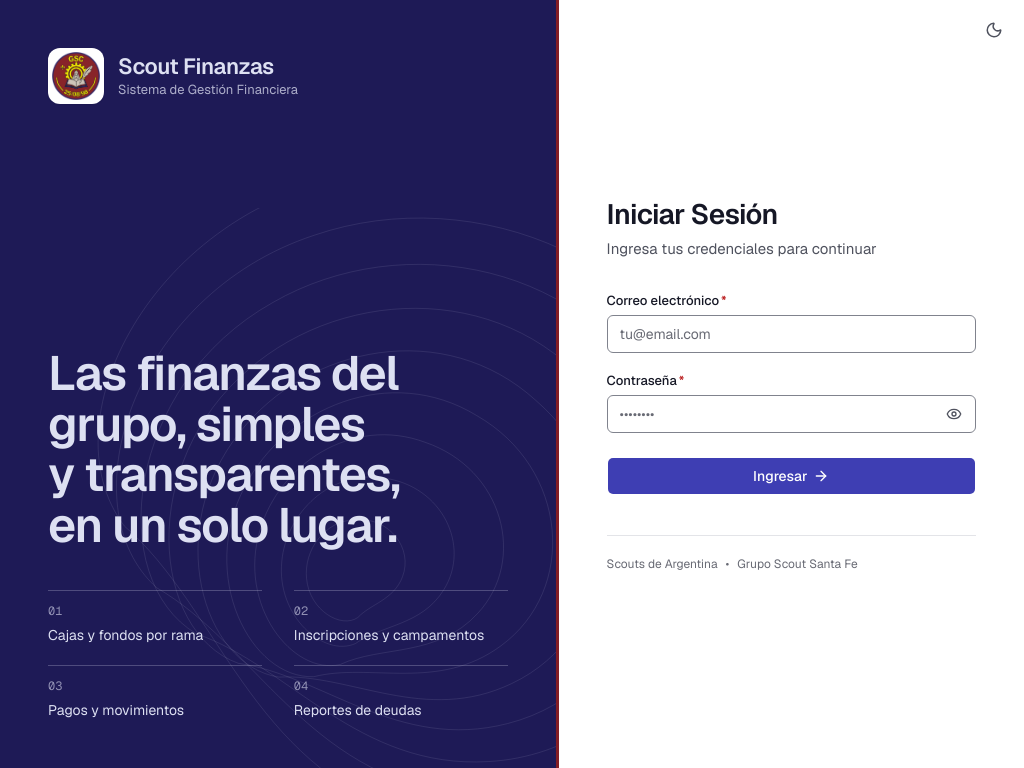
Test: LoginView › valida antes de enviar
What coordinates should you click on to do the following:
click the button "Ingresar"
I would click on:
 (791, 476)
Its box is [606,457,976,495].
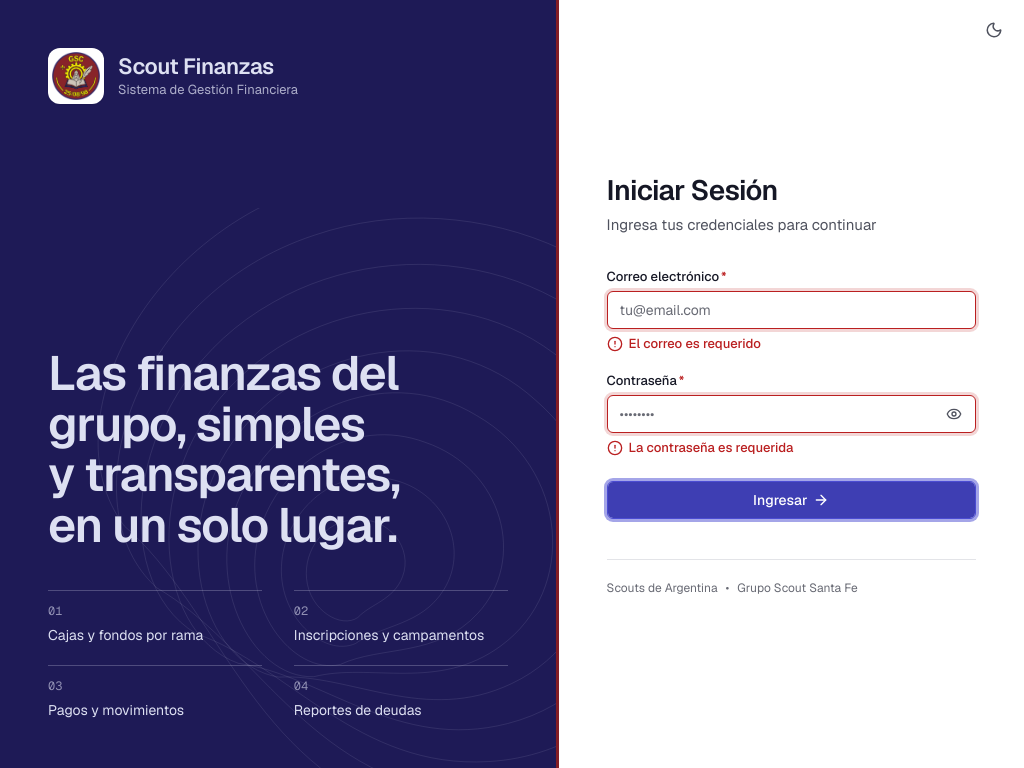
Now the text "El correo es requerido" is shown, box [628,335,761,353]
